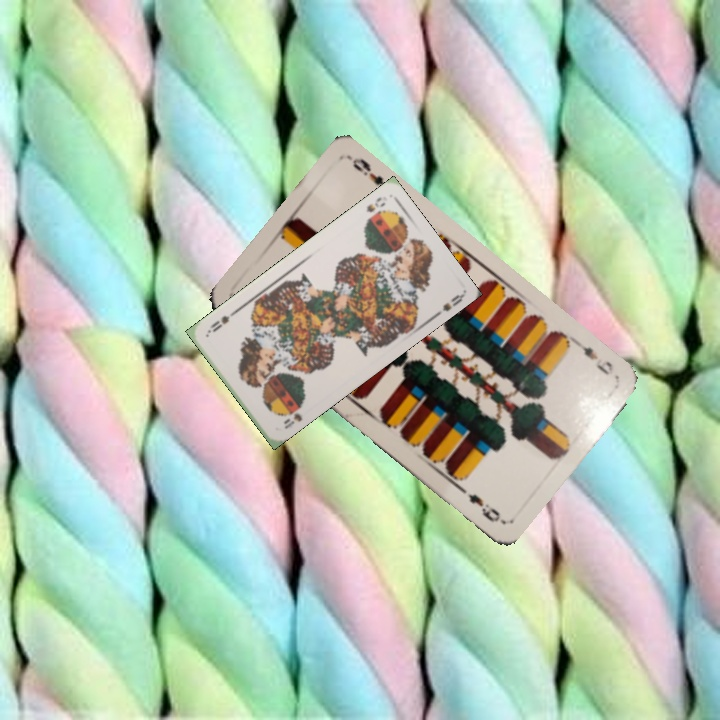E9: (571, 336, 616, 378)
SO: (279, 409, 305, 432), (362, 193, 388, 215)
